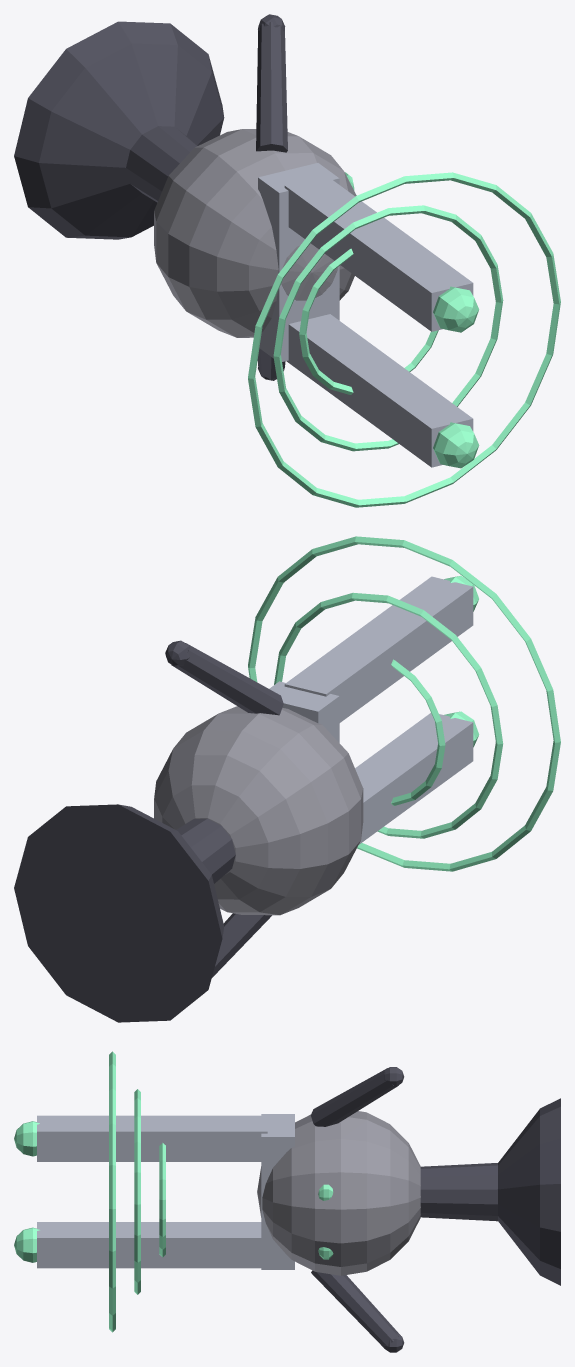
The model's file is Diapason.obj.
3 views of the same model, one above another, from view 1: azimuth 30°, elevation 25°; view 2: azimuth 150°, elevation 25°; view 3: azimuth 270°, elevation 25° (orthographic). The views are drawn at different scales.
Parts seen in each view (by area): view 1: Diapason; view 2: Diapason; view 3: Diapason.
Part boxes in pixels (left/top/right/bottom): Diapason: left=14, top=14, right=560, bottom=507; Diapason: left=14, top=536, right=560, bottom=1022; Diapason: left=14, top=1051, right=560, bottom=1352.
Bounding box in the file's own units: 135 × 150 × 261.
